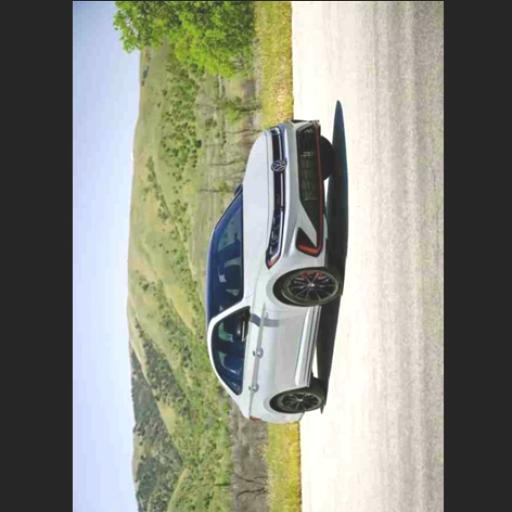sedan: (206, 120, 341, 423)
